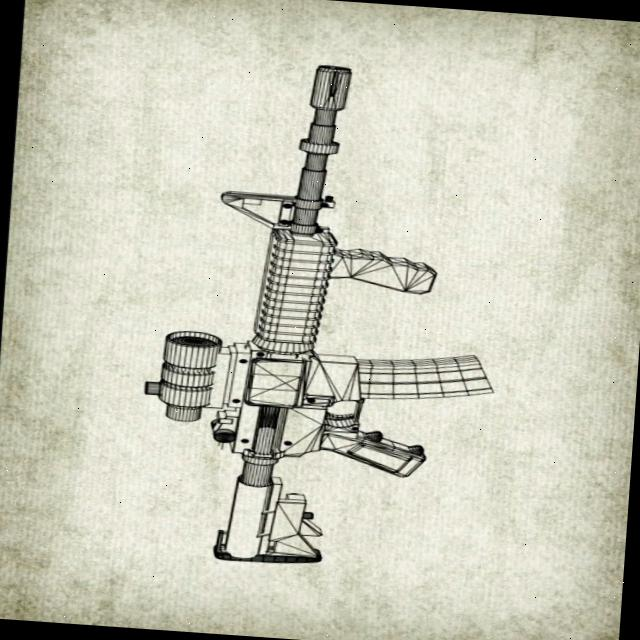Automaticrifle: (131, 54, 519, 578)
